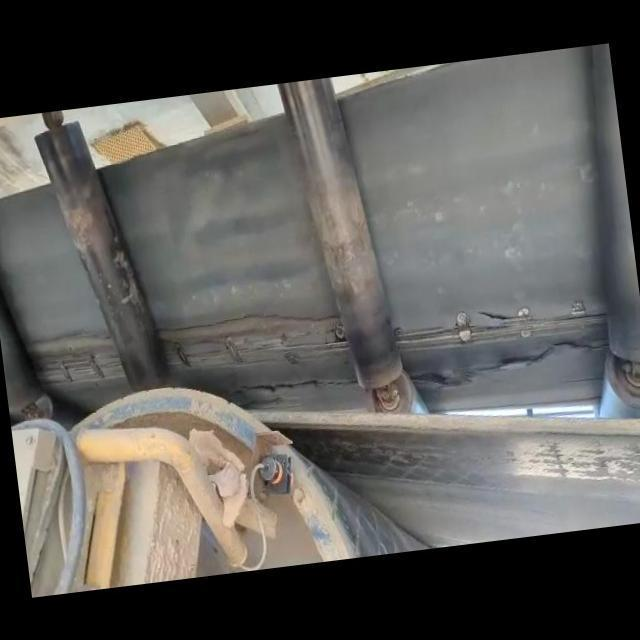Tear: (400, 332, 612, 394), (154, 310, 353, 356), (22, 326, 132, 388), (216, 372, 365, 398), (468, 290, 531, 332)
